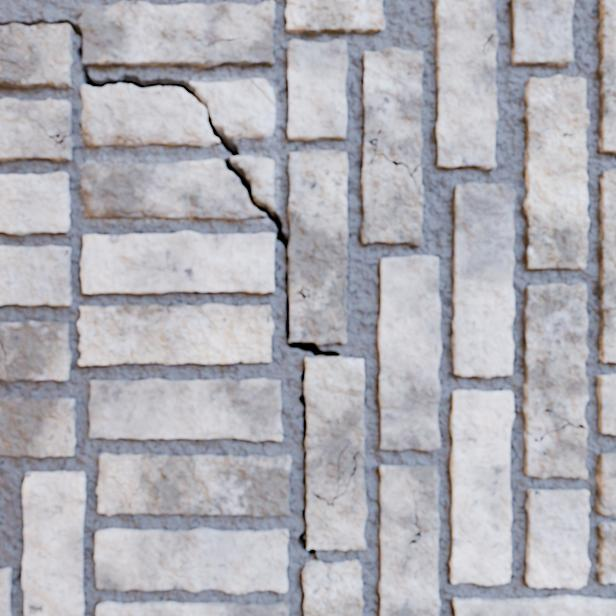broken_brick: (82, 159, 266, 220), (81, 84, 218, 146), (190, 79, 274, 139), (231, 156, 273, 194), (252, 79, 274, 103), (259, 196, 275, 210)
crack: (80, 150, 367, 615), (0, 0, 275, 156), (95, 527, 288, 594), (523, 75, 589, 269), (523, 284, 588, 478), (449, 390, 513, 585), (378, 255, 441, 450), (452, 183, 515, 377), (97, 453, 291, 516), (361, 48, 423, 245), (89, 378, 282, 441), (77, 304, 273, 365), (435, 0, 497, 169), (378, 465, 440, 615), (22, 471, 85, 615), (525, 489, 590, 588), (287, 40, 347, 140), (0, 98, 74, 161), (0, 396, 75, 457), (0, 172, 69, 234), (0, 246, 71, 306), (0, 321, 71, 381), (511, 0, 573, 67), (285, 0, 384, 33), (598, 170, 615, 362), (452, 595, 615, 615), (96, 601, 289, 615), (598, 0, 615, 153), (595, 453, 615, 515), (596, 522, 615, 583), (597, 374, 615, 434), (250, 79, 274, 106), (0, 568, 11, 615), (147, 142, 164, 143)
